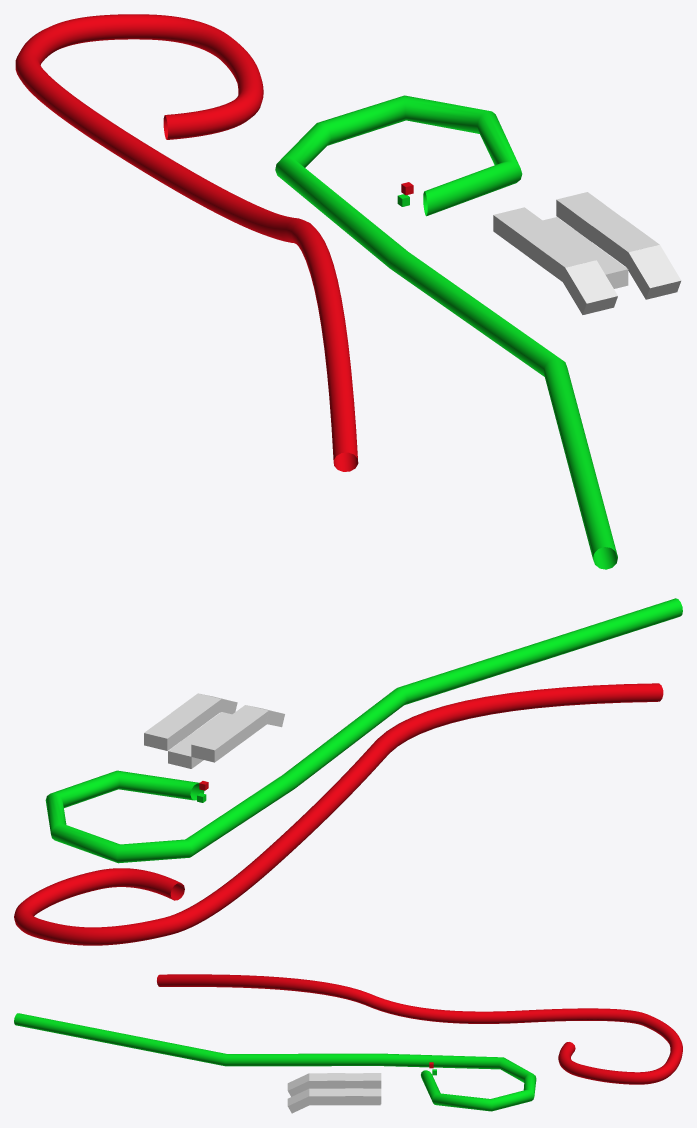
The picture shows the model from 3 angles, top to bottom: view 1: azimuth 30°, elevation 25°; view 2: azimuth 150°, elevation 25°; view 3: azimuth 270°, elevation 25°; orthographic projection. The views are drawn at different scales.
Visible parts, largest first — view 1: NurbsPath.001, NurbsPath, floor.014, floor.013, floor.003, floor.001, floor.007, floor.008, floor.004, floor.002, floor.009, floor.006; view 2: NurbsPath.001, NurbsPath, floor.001, floor.002, floor.012; view 3: NurbsPath.001, NurbsPath, floor.013, floor.014, floor.004, floor.002, floor.008, floor.009, floor.001, floor.006, floor.007, floor.003.
Boxes of the visible parts, bbox=[...] form: NurbsPath.001: bbox=[15, 14, 358, 471]; NurbsPath: bbox=[275, 95, 617, 569]; floor.014: bbox=[561, 260, 617, 314]; floor.013: bbox=[624, 244, 681, 299]; floor.003: bbox=[511, 220, 560, 257]; floor.001: bbox=[493, 207, 542, 244]; floor.007: bbox=[529, 233, 578, 270]; floor.008: bbox=[592, 218, 641, 254]; floor.004: bbox=[574, 205, 623, 241]; floor.002: bbox=[556, 192, 604, 228]; floor.009: bbox=[610, 231, 659, 268]; floor.006: bbox=[547, 247, 596, 281]; NurbsPath.001: bbox=[14, 683, 663, 945]; NurbsPath: bbox=[45, 598, 682, 863]; floor.001: bbox=[191, 734, 228, 762]; floor.002: bbox=[144, 723, 180, 750]; floor.012: bbox=[168, 741, 203, 768]; NurbsPath.001: bbox=[157, 974, 682, 1084]; NurbsPath: bbox=[14, 1013, 536, 1111]; floor.013: bbox=[287, 1089, 310, 1113]; floor.014: bbox=[287, 1073, 309, 1096]; floor.004: bbox=[345, 1088, 363, 1104]; floor.002: bbox=[363, 1088, 381, 1104]; floor.008: bbox=[327, 1088, 345, 1104]; floor.009: bbox=[309, 1088, 327, 1104]; floor.001: bbox=[363, 1073, 381, 1088]; floor.006: bbox=[309, 1073, 327, 1088]; floor.007: bbox=[327, 1073, 345, 1088]; floor.003: bbox=[345, 1073, 363, 1088].
Size of what is drawn, in the model's own units: 126 by 24.85 by 295.
